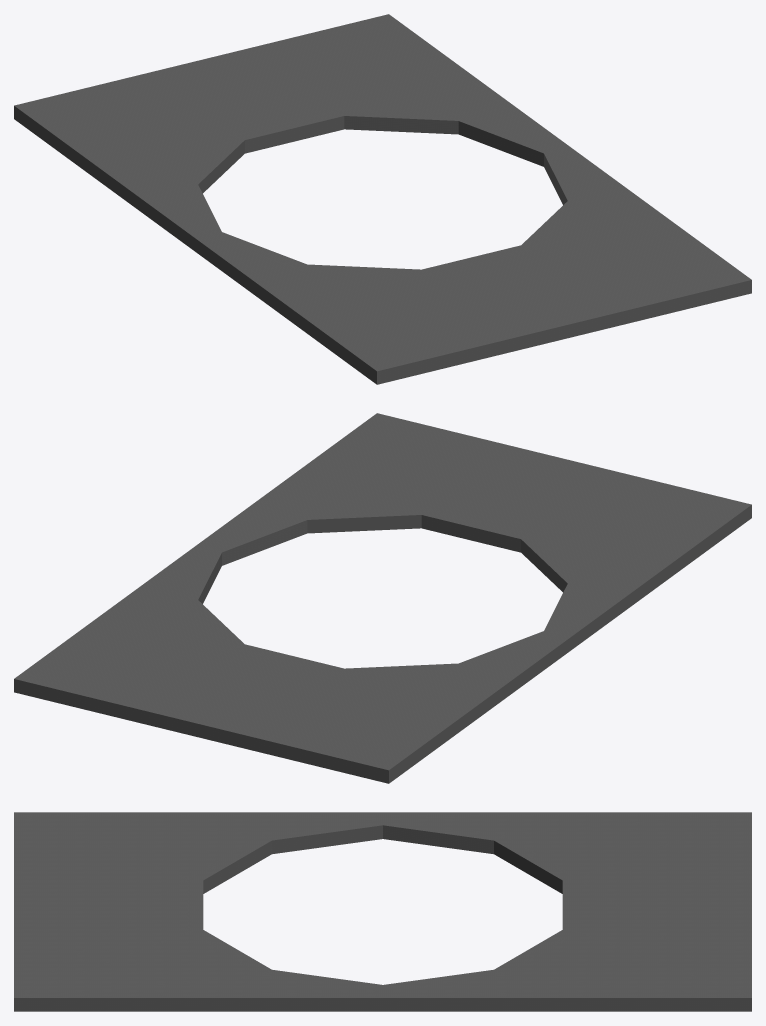
3 views of the same model, one above another, from view 1: azimuth 30°, elevation 25°; view 2: azimuth 150°, elevation 25°; view 3: azimuth 270°, elevation 25° (orthographic).
Parts seen in each view (by area): view 1: _Mesh739; view 2: _Mesh739; view 3: _Mesh739.
Boxes of the visible parts, left/top/right/bottom form: _Mesh739: left=14, top=14, right=751, bottom=384; _Mesh739: left=14, top=413, right=751, bottom=783; _Mesh739: left=14, top=812, right=751, bottom=1011.
Size of the model in its own units: 5.8 by 0.1995 by 9.73.
1 material, 1 textured.
